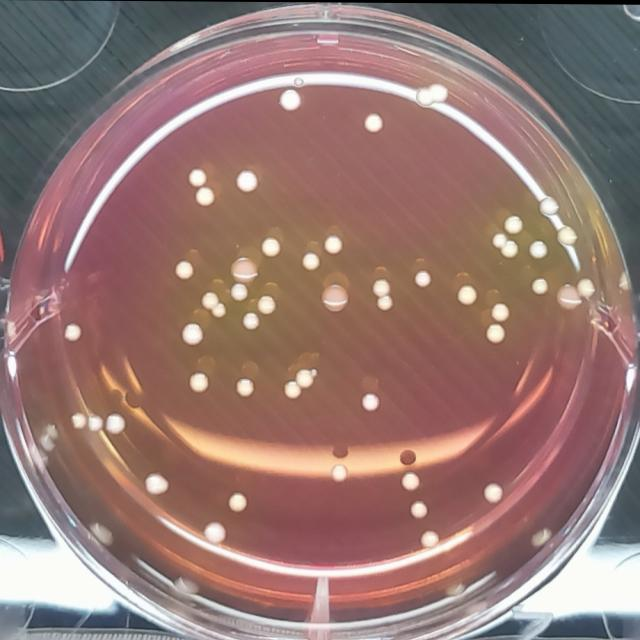StaphyloPositive: (414, 81, 448, 109), (370, 274, 395, 312), (178, 320, 207, 348), (198, 291, 226, 319), (140, 469, 170, 495), (200, 520, 230, 546), (492, 231, 520, 258), (537, 189, 564, 217), (233, 169, 260, 196), (185, 368, 210, 397), (294, 365, 320, 392), (100, 411, 128, 436), (321, 231, 345, 259), (61, 321, 86, 346), (172, 256, 196, 282), (480, 481, 506, 505), (224, 489, 250, 513), (300, 249, 324, 274), (456, 283, 480, 307), (254, 292, 277, 317), (489, 300, 514, 323), (527, 239, 551, 262), (194, 185, 217, 208), (484, 322, 508, 344), (363, 109, 385, 133), (277, 90, 301, 112), (260, 235, 284, 257), (404, 497, 428, 519), (232, 376, 255, 398), (502, 212, 524, 234), (184, 169, 207, 190), (412, 267, 432, 291), (360, 391, 382, 412), (556, 223, 577, 245), (328, 462, 348, 485), (238, 310, 260, 330), (228, 281, 248, 303), (84, 413, 104, 435), (420, 528, 440, 549), (64, 409, 86, 428), (280, 380, 302, 398), (400, 469, 421, 487), (530, 276, 548, 294)
